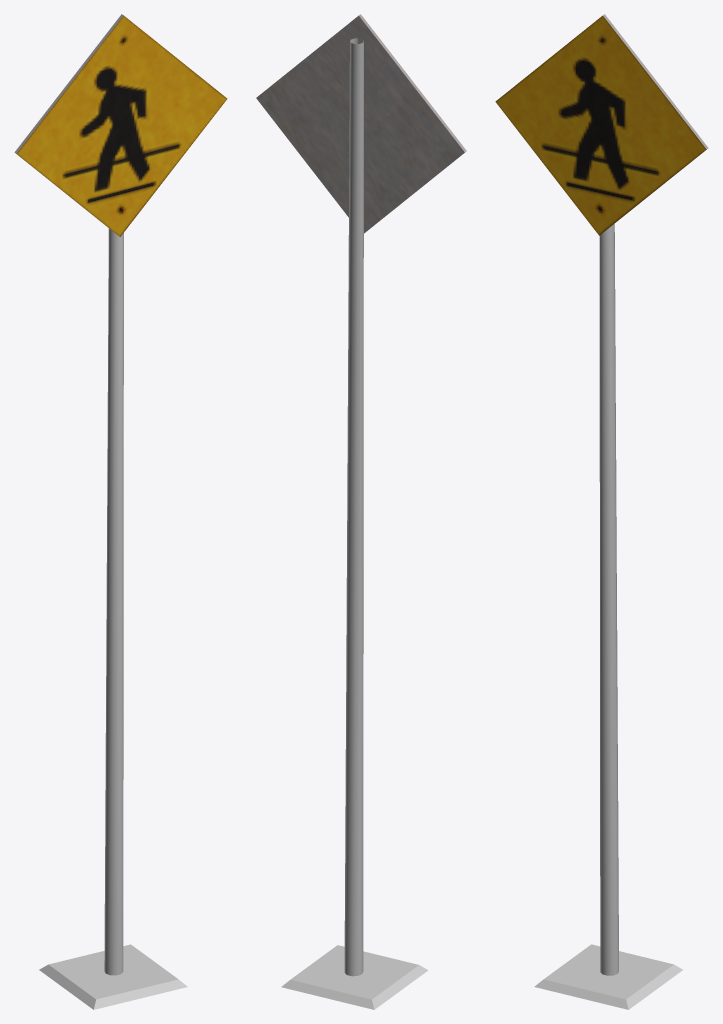
The model's file is D_road_s_crwalk.FBX.
3 renders of one model, left to right at view 1: azimuth 30°, elevation 25°; view 2: azimuth 150°, elevation 25°; view 3: azimuth 330°, elevation 25°, orthographic.
Parts seen in each view (by area): view 1: road_s_crwalk; view 2: road_s_crwalk; view 3: road_s_crwalk.
Boxes of the visible parts, x1,y1,x2,y2 form: road_s_crwalk: (14,14,227,1009); road_s_crwalk: (256,14,466,1009); road_s_crwalk: (495,14,708,1009).
Bounding box in the file's own units: 2.32 × 1.04 × 10.15.
